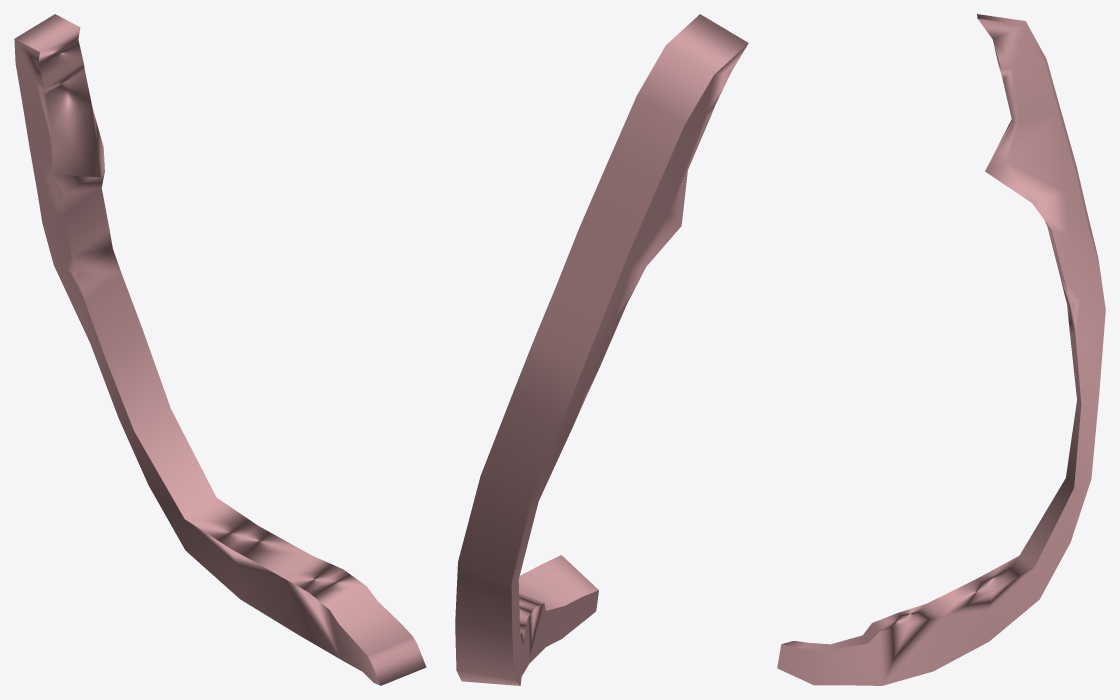
3 views of the same model, side by side, from view 1: azimuth 30°, elevation 25°; view 2: azimuth 150°, elevation 25°; view 3: azimuth 270°, elevation 25° (orthographic). The views are drawn at different scales.
Parts seen in each view (by area): view 1: ZA_b1f510cd0eb85300; view 2: ZA_b1f510cd0eb85300; view 3: ZA_b1f510cd0eb85300.
Part boxes in pixels (x1,y1,x2,y2): ZA_b1f510cd0eb85300: (14, 14, 426, 685); ZA_b1f510cd0eb85300: (455, 14, 748, 685); ZA_b1f510cd0eb85300: (777, 14, 1105, 685).
Bounding box in the file's own units: 0.0201 × 0.0426 × 0.0222.
